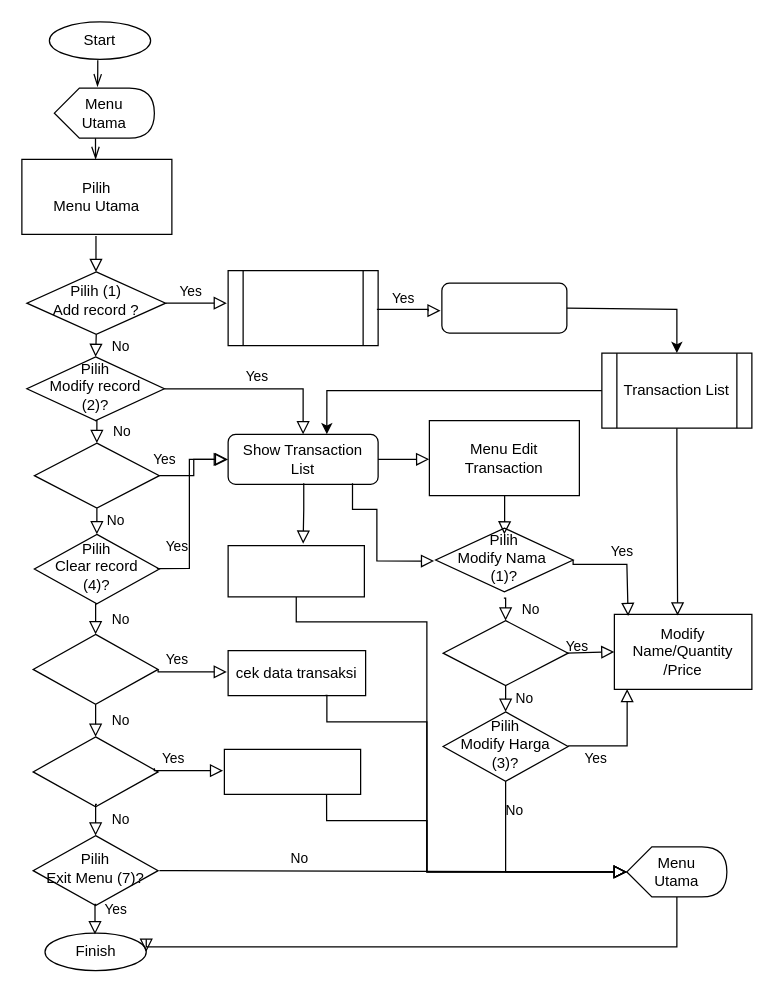
The diagram is 774 pixels wide and 993 high, and some of its shapes have lost their labels. Each missing label, with the centre of its shape:
"Add Record" belongs at point 504,307.
"get Pricelist" belongs at point 302,307.
"Hapus satu atau semua transaksi" belongs at point 295,570.
"Hitung Total Transaksi" belongs at point 292,771.
"Pilih Calc. Total Price (6)?" belongs at point 95,771.
"Pilih Calc. Trans Items (5)?" belongs at point 95,668.
"Pilih Delete record (3)?" belongs at point 96,475.
"Pilih Modify Jumlah (2)?" belongs at point 505,652.
